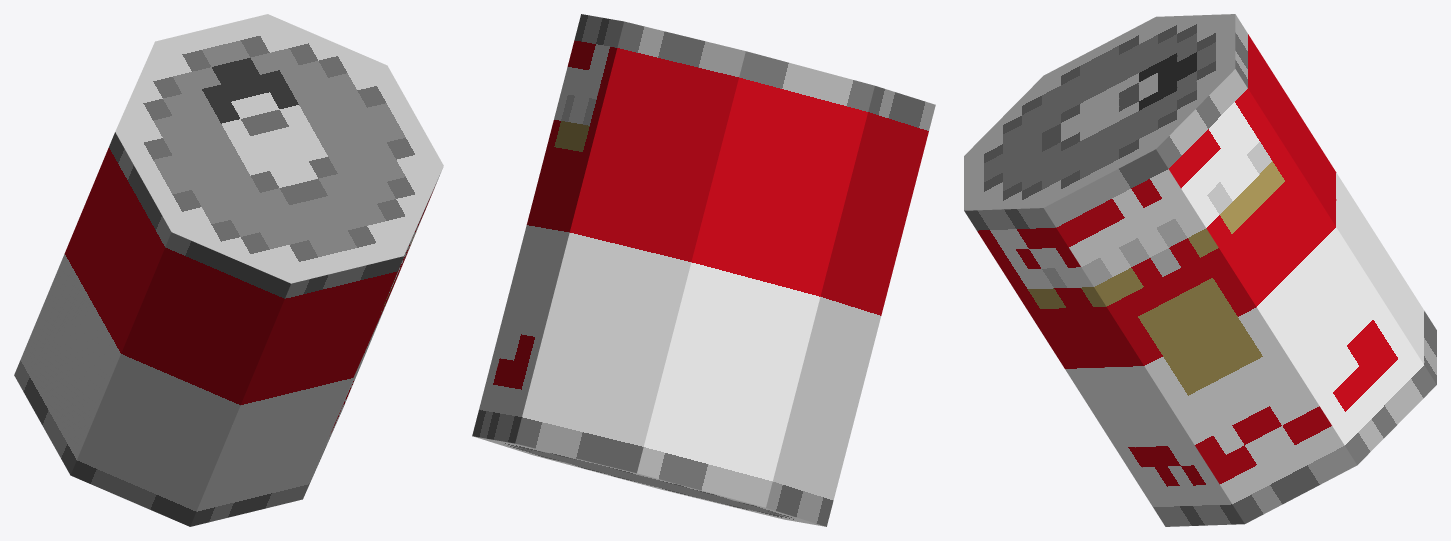
The model's file is Can Model.fbx.
3 renders of one model, left to right at view 1: azimuth 30°, elevation 25°; view 2: azimuth 150°, elevation 25°; view 3: azimuth 270°, elevation 25°, orthographic. The views are drawn at different scales.
Parts seen in each view (by area): view 1: cylinder; view 2: cylinder; view 3: cylinder.
Boxes of the visible parts, x1=… form: cylinder: x1=14, y1=14, x2=443, y2=526; cylinder: x1=472, y1=14, x2=935, y2=526; cylinder: x1=964, y1=14, x2=1436, y2=526.
Size of the model in its own units: 43.75 by 70.59 by 66.01.
1 material, 1 textured.
